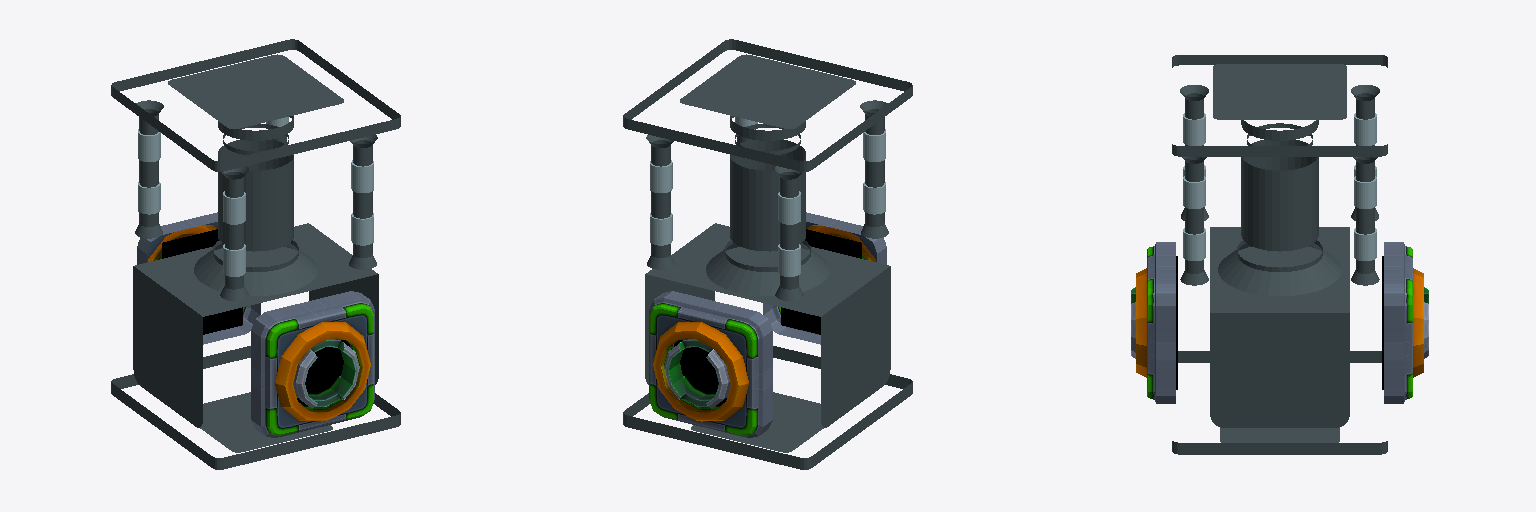
The picture shows the model from 3 angles: view 1: azimuth 30°, elevation 25°; view 2: azimuth 150°, elevation 25°; view 3: azimuth 270°, elevation 25°; orthographic projection.
Visible parts, largest first — view 1: fant_seedpress_Cube.001; view 2: fant_seedpress_Cube.001; view 3: fant_seedpress_Cube.001.
Part boxes in pixels (left/top/right/bottom): fant_seedpress_Cube.001: left=111, top=39, right=400, bottom=469; fant_seedpress_Cube.001: left=623, top=39, right=912, bottom=469; fant_seedpress_Cube.001: left=1131, top=55, right=1428, bottom=454.
Bounding box in the file's own units: 3 × 4.99 × 4.01.
Materials: 1 (1 with a texture image).